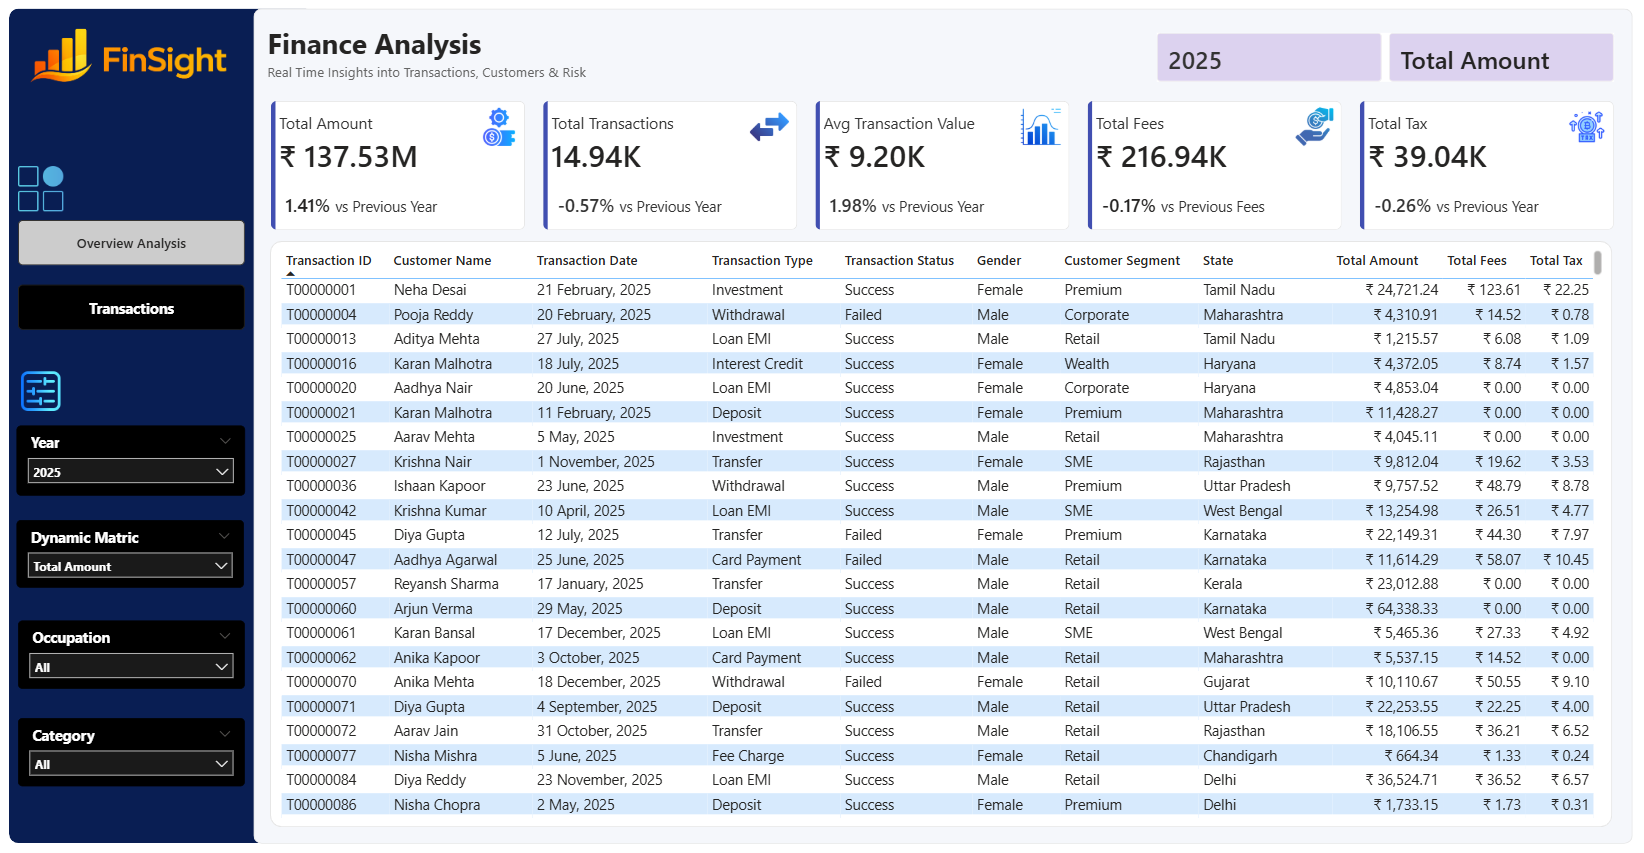

The dashboard page shown, as its layout file describes it:
{"tool":"powerbi","page":{"name":"Transactions","canvas":[1820,950],"ordinal":1},"visuals":[{"type":"shape","box":[12.7,14.5,336.8,919.8],"z":0},{"type":"shape","box":[283.3,14.5,1520,920.6],"z":1000},{"type":"image","box":[23.9,23.9,249.7,88.1],"z":2000},{"type":"cardVisual","fields":{"Data":["finance_transactions.Dashboard Title"]},"box":[280.9,14.7,427.8,97.3],"z":3000},{"type":"cardVisual","fields":{"Data":["finance_transactions.Total Amount","finance_transactions.Total Transactions","finance_transactions.Avg Transaction","finance_transactions.Total Fees","finance_transactions.Total Tax"]},"box":[295.6,110.2,1492.6,154.2],"z":4000},{"type":"image","box":[532.4,123,42.2,45.9],"z":5000},{"type":"image","box":[828,123,45.9,45.9],"z":6000},{"type":"image","box":[1127.3,123,45.9,45.9],"z":7000},{"type":"image","box":[1430.2,123,44.1,45.9],"z":8000},{"type":"image","box":[1729.4,123,45.9,45.9],"z":9000},{"type":"shape","box":[301.4,271.3,1479.1,645.9],"z":10000},{"type":"cardVisual","fields":{"Data":["finance_transactions.Selected Year","finance_transactions.Selected Dynamic Measure"]},"box":[1272.3,36.7,515.9,64.3],"z":11000},{"type":"tableEx","fields":{"Values":["finance_transactions.transaction_id","customers.customer_name","finance_transactions.transaction_date","finance_transactions.transaction_type","finance_transactions.transaction_status","customers.gender","customers.customer_segment","customers.state","finance_transactions.Total Amount","finance_transactions.Total Fees","finance_transactions.Total Tax"]},"box":[307.9,275.6,1466.2,637.3],"z":12000},{"type":"image","box":[23.3,188.3,50,50],"z":18001},{"type":"image","box":[23.3,411.7,50,50],"z":18002},{"type":"slicer","fields":{"Values":["Calender Table.Year"]},"box":[21.5,473.7,251.9,77.5],"z":18003},{"type":"slicer","fields":{"Values":["Dynamic Matric.Dynamic Matric"]},"box":[21.8,579.2,250.6,74.4],"z":18004},{"type":"slicer","fields":{"Values":["customers.occupation"]},"box":[23.7,689,249.7,75.4],"z":18005},{"type":"slicer","fields":{"Values":["finance_transactions.merchant_category"]},"box":[23.7,796.6,249.7,75.4],"z":18006},{"type":"pageNavigator","box":[23.7,247.6,250,50],"z":18007},{"type":"pageNavigator","box":[23.7,318.6,250,50],"z":18008}]}

Visuals, with their boxes on the page's 1820x950 design canvas (x1, y1, x2, y2). These are canvas units, not pixel positions in the 1644x853 screenshot, which may show the page scaled, cropped or inside an application window:
shape: <box>13,14,350,934</box>
shape: <box>283,14,1803,935</box>
image: <box>24,24,274,112</box>
cardVisual - finance_transactions.Dashboard Title: <box>281,15,709,112</box>
cardVisual - finance_transactions.Total Amount x finance_transactions.Total Transactions: <box>296,110,1788,264</box>
image: <box>532,123,575,169</box>
image: <box>828,123,874,169</box>
image: <box>1127,123,1173,169</box>
image: <box>1430,123,1474,169</box>
image: <box>1729,123,1775,169</box>
shape: <box>301,271,1780,917</box>
cardVisual - finance_transactions.Selected Year x finance_transactions.Selected Dynamic Measure: <box>1272,37,1788,101</box>
tableEx - finance_transactions.transaction_id x customers.customer_name: <box>308,276,1774,913</box>
image: <box>23,188,73,238</box>
image: <box>23,412,73,462</box>
slicer - Calender Table.Year: <box>22,474,273,551</box>
slicer - Dynamic Matric.Dynamic Matric: <box>22,579,272,654</box>
slicer - customers.occupation: <box>24,689,273,764</box>
slicer - finance_transactions.merchant_category: <box>24,797,273,872</box>
pageNavigator: <box>24,248,274,298</box>
pageNavigator: <box>24,319,274,369</box>
